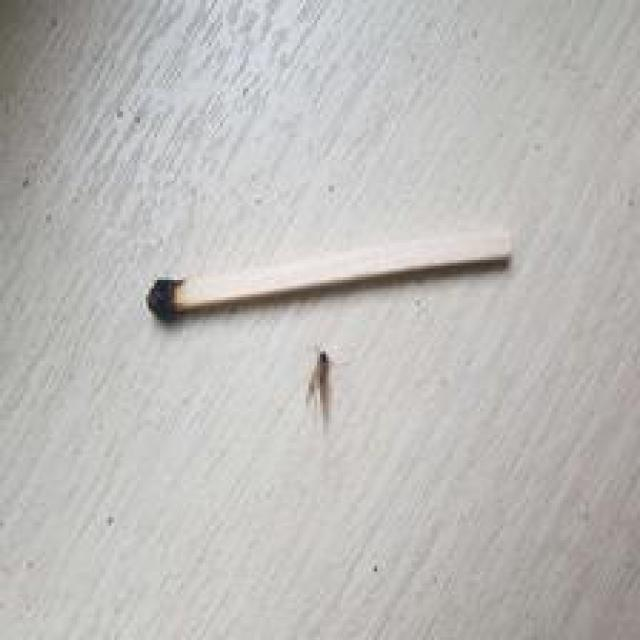Culex: (304, 348, 333, 432)
